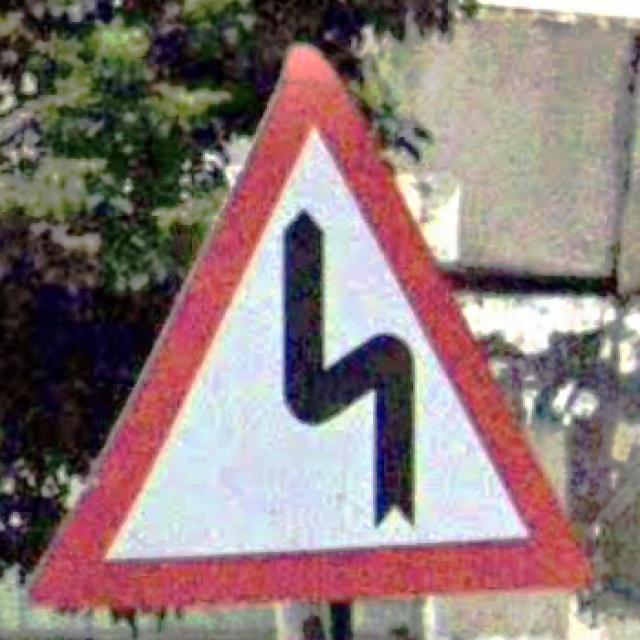doublebendleft: (26, 46, 594, 614)
